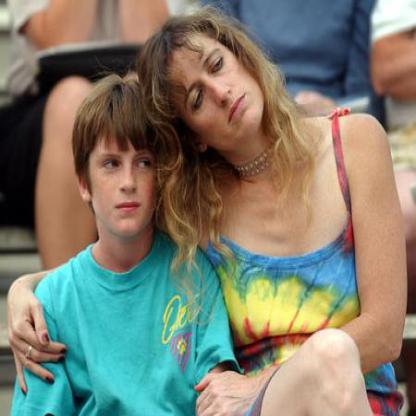face: (171, 12, 253, 165), (87, 83, 164, 242)
